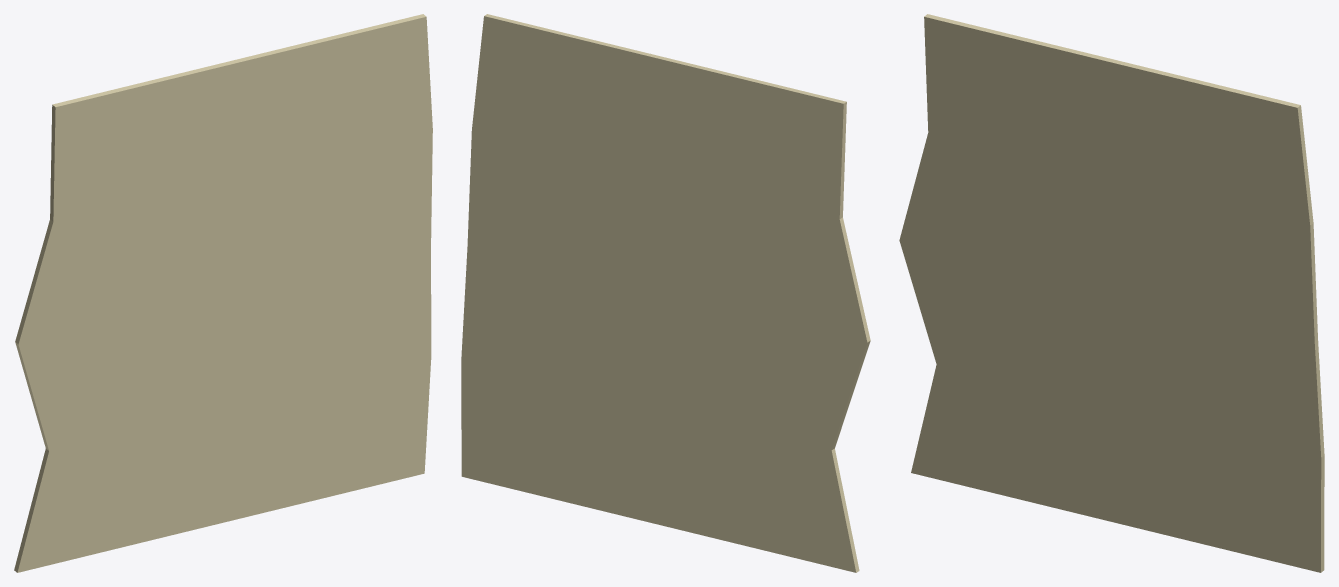
File: sticker_01.glb
The picture shows the model from 3 angles, left to right: view 1: azimuth 30°, elevation 25°; view 2: azimuth 150°, elevation 25°; view 3: azimuth 330°, elevation 25°; orthographic projection. The views are drawn at different scales.
Visible parts, largest first — view 1: sticker01; view 2: sticker01; view 3: sticker01.
Boxes of the visible parts, x1,y1,x2,y2 form: sticker01: (14, 14, 432, 572); sticker01: (461, 14, 870, 572); sticker01: (899, 14, 1324, 572).
Size of the model in its own units: 0.2377 by 0.2561 by 0.0157.
